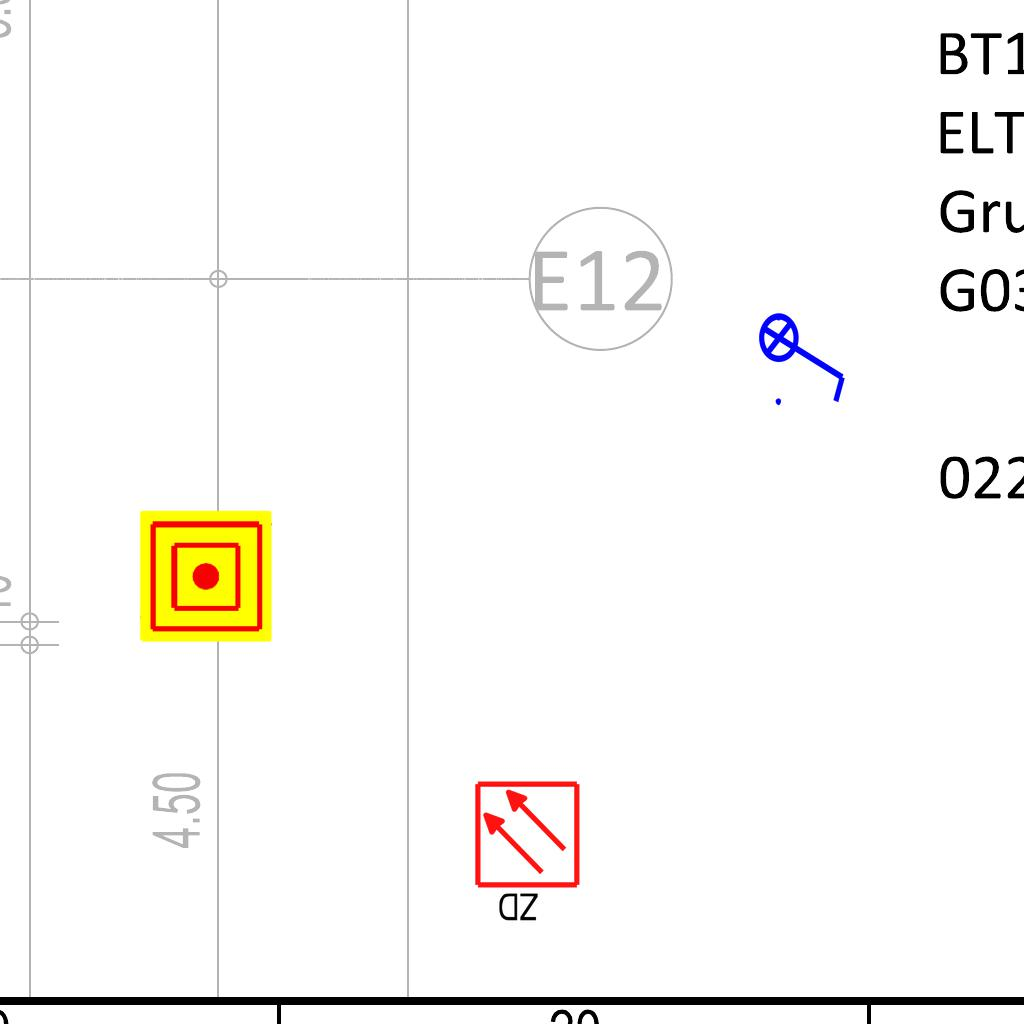Ausschalter_beleuchtet: (757, 299, 853, 411)
NAM-Nichtautomatischer_Melder: (140, 510, 272, 642)
ZD_Melder_in_Zwischendecke_mit_Revisionsoeffnung_mind_40_x_40_cm: (472, 779, 586, 928)
